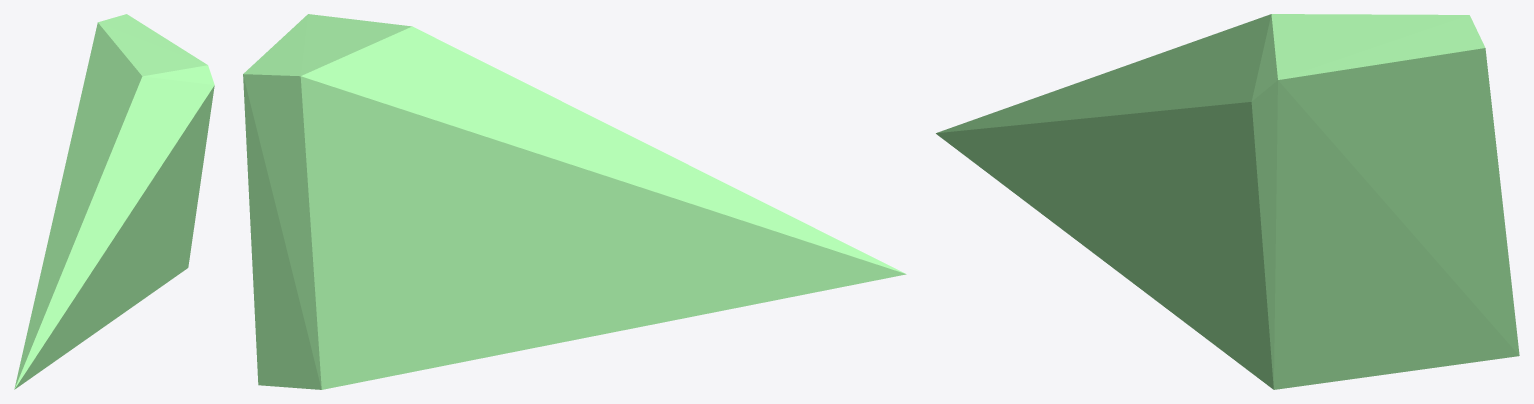
The model's file is UMIRobot_UMIRobot_link_5_convex_coll_11.dae.
3 views of the same model, side by side, from view 1: azimuth 30°, elevation 25°; view 2: azimuth 150°, elevation 25°; view 3: azimuth 270°, elevation 25° (orthographic). The views are drawn at different scales.
Visible parts, largest first — view 1: node; view 2: node; view 3: node.
Boxes of the visible parts, box(x1,y1,x2,y2) form: node: box(14, 14, 214, 389); node: box(243, 14, 906, 389); node: box(936, 14, 1519, 389).
Bounding box in the file's own units: 0.015 × 0.0102 × 0.0154.
